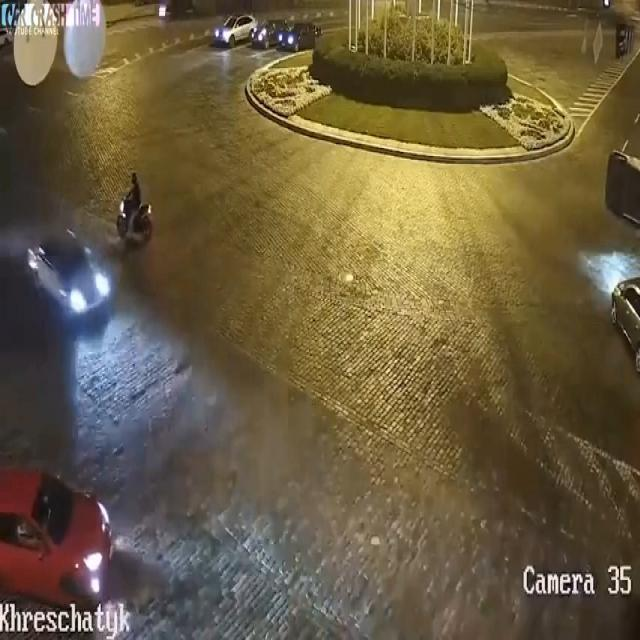Accident: (596, 105, 640, 269)
